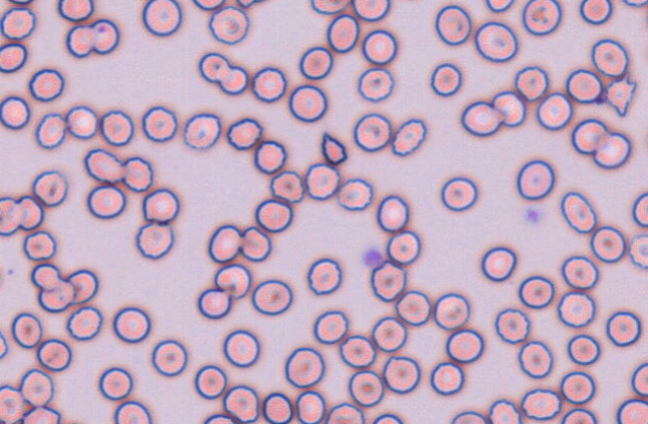PLT: (525, 206, 544, 224), (363, 248, 382, 265)
RBC: (474, 21, 517, 62), (284, 346, 325, 388), (208, 5, 249, 44), (516, 159, 555, 200), (560, 191, 597, 233), (251, 278, 293, 315), (134, 221, 174, 259), (353, 112, 391, 152), (370, 260, 406, 302), (460, 100, 502, 136), (592, 131, 631, 169), (556, 290, 595, 328), (382, 355, 420, 394), (535, 91, 573, 130), (591, 38, 629, 77), (288, 84, 327, 122), (83, 147, 124, 183), (141, 0, 182, 36), (435, 4, 471, 45), (182, 112, 221, 149), (141, 187, 179, 224), (433, 292, 470, 330), (222, 384, 259, 422), (112, 306, 150, 343), (223, 329, 260, 367), (86, 184, 126, 219), (521, 0, 561, 35), (213, 263, 251, 299), (517, 340, 553, 378), (348, 369, 384, 407), (151, 338, 187, 376), (590, 225, 626, 263), (304, 162, 340, 200), (306, 257, 342, 295), (19, 368, 54, 407), (207, 223, 241, 263), (571, 118, 608, 154), (494, 307, 530, 344), (141, 105, 177, 142), (32, 169, 67, 207), (561, 255, 599, 290), (391, 118, 426, 156), (445, 328, 483, 363), (565, 68, 603, 103), (440, 176, 478, 211), (254, 198, 293, 232), (520, 388, 561, 420), (395, 289, 431, 325), (371, 316, 407, 352), (605, 310, 641, 346), (251, 66, 287, 102), (491, 90, 526, 127), (357, 67, 394, 102), (338, 334, 376, 368), (326, 13, 359, 52), (66, 305, 102, 340), (514, 65, 549, 101), (361, 29, 397, 64), (480, 246, 516, 281), (100, 109, 134, 146), (376, 194, 409, 232), (386, 230, 421, 265), (313, 309, 348, 344), (337, 177, 373, 211), (98, 366, 133, 400), (429, 361, 464, 395), (38, 279, 74, 312), (65, 268, 98, 304), (0, 7, 36, 40), (559, 371, 595, 404), (28, 68, 64, 101), (518, 275, 554, 308), (226, 117, 262, 150), (121, 155, 153, 192), (36, 338, 71, 371), (269, 170, 304, 203), (194, 364, 227, 399), (253, 139, 286, 174), (239, 225, 271, 261), (65, 105, 98, 139), (299, 46, 333, 79), (11, 312, 42, 348), (35, 112, 66, 148), (197, 287, 231, 319), (566, 333, 600, 365), (430, 62, 461, 96), (90, 18, 119, 54), (198, 51, 230, 83), (22, 230, 56, 260), (0, 95, 30, 129), (216, 64, 248, 95), (295, 390, 325, 423), (15, 195, 43, 230), (0, 384, 25, 423), (262, 392, 293, 423), (65, 24, 94, 57), (113, 400, 152, 423), (0, 42, 27, 73), (488, 398, 521, 423), (325, 402, 364, 423), (351, 0, 390, 21), (30, 263, 60, 290), (579, 0, 612, 24), (0, 196, 20, 235), (616, 398, 647, 423), (57, 0, 93, 21), (22, 405, 60, 423), (628, 233, 647, 269), (560, 407, 597, 423), (632, 191, 648, 227), (310, 0, 349, 14), (631, 362, 647, 396), (450, 410, 486, 423), (484, 0, 514, 12), (372, 412, 403, 423), (191, 0, 225, 10), (203, 413, 236, 423), (0, 328, 8, 359), (621, 0, 647, 7), (235, 0, 255, 8), (6, 0, 35, 5), (62, 418, 86, 424), (0, 260, 3, 291)
Schistocyte: (606, 79, 636, 118), (322, 130, 347, 164)
